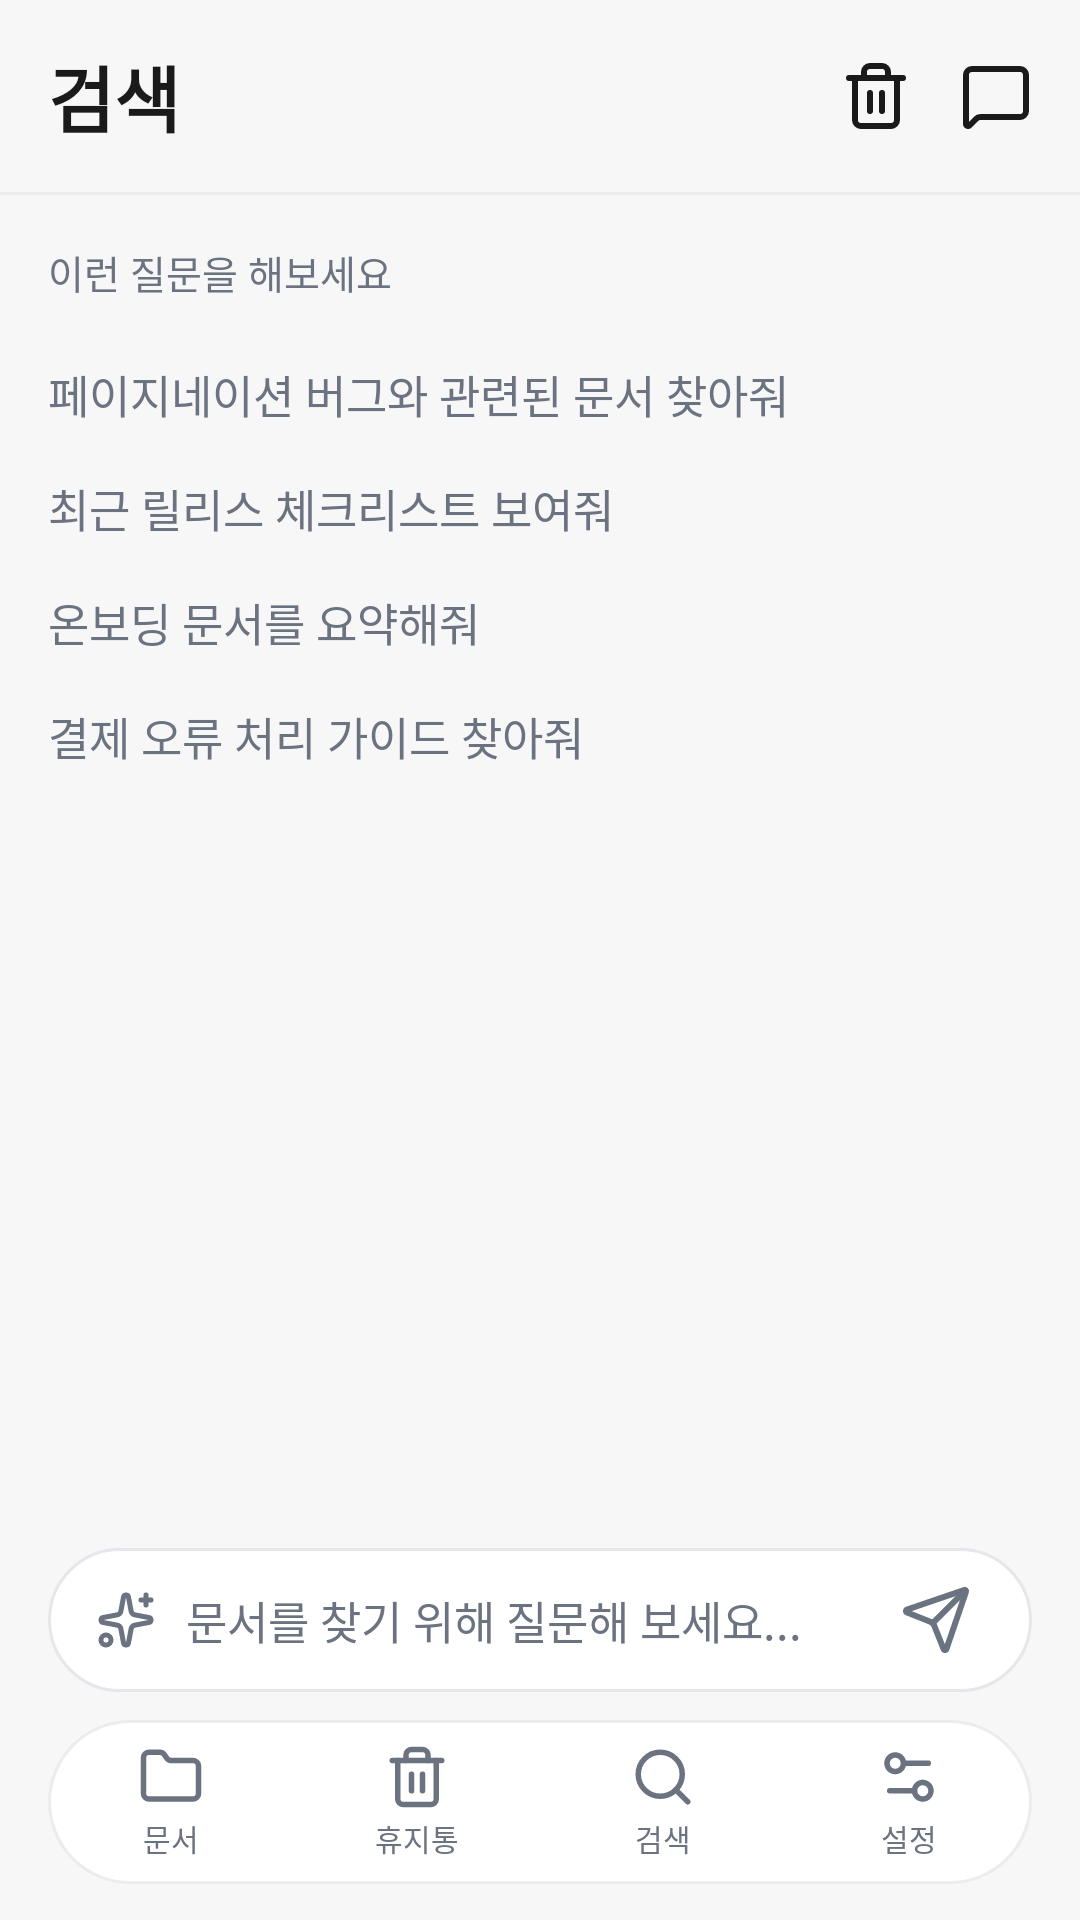

Named icons in this screenshot (1080×1920) and their bounding boxes, (x1, y1, x2, y2):
AI: (98, 1592, 154, 1648)
전송: (903, 1587, 969, 1653)
채팅방 목록: (963, 66, 1029, 129)
현재 대화 삭제: (846, 63, 906, 129)
